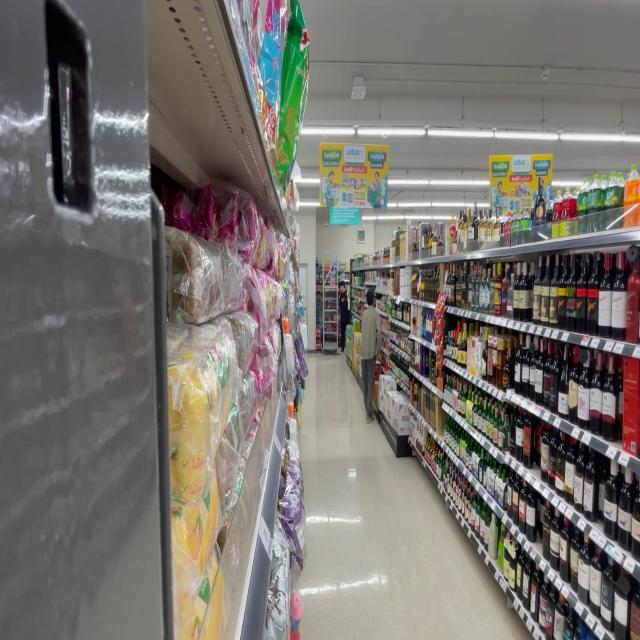shoplifting: (360, 284, 380, 424)
